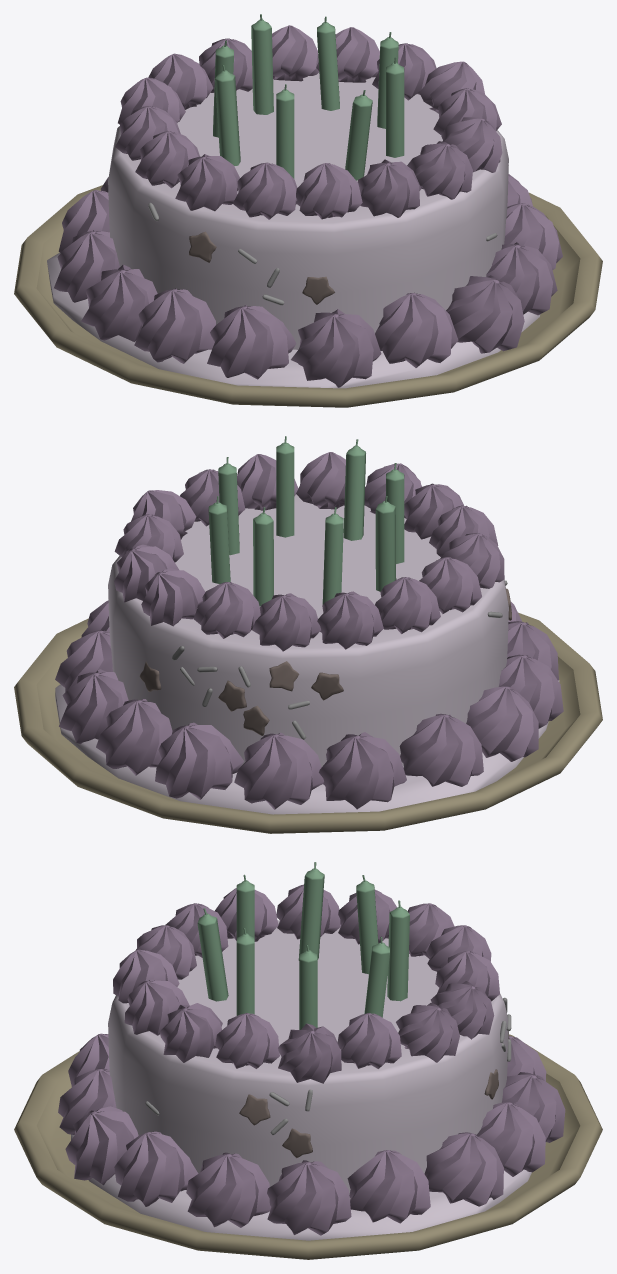
Rendered from BirthdayCake.fbx.
The picture shows the model from 3 angles, top to bottom: view 1: azimuth 30°, elevation 25°; view 2: azimuth 150°, elevation 25°; view 3: azimuth 270°, elevation 25°; orthographic projection.
Parts seen in each view (by area): view 1: BirthdayCake_Base, BirthdayCake_Plate, BirthdayCakeI_Icing, IcingSwirl29, IcingSwirl30, IcingSwirl28, IcingSwirl27, IcingSwirl34, IcingSwirl33, IcingSwirl26, IcingSwirl32, IcingSwirl1 (+28 smaller); view 2: BirthdayCake_Base, BirthdayCake_Plate, BirthdayCakeI_Icing, IcingSwirl20, IcingSwirl19, IcingSwirl31, IcingSwirl32, IcingSwirl33, IcingSwirl21, IcingSwirl22, BirthdayCake_StarSprinkles, IcingSwirl7 (+28 smaller); view 3: BirthdayCake_Base, BirthdayCake_Plate, BirthdayCakeI_Icing, IcingSwirl24, IcingSwirl25, IcingSwirl23, IcingSwirl22, IcingSwirl26, IcingSwirl27, IcingSwirl21, IcingSwirl12, IcingSwirl13 (+28 smaller).
Part boxes in pixels (box(x1,y1,x2,y2)): BirthdayCake_Base: box(108, 72, 508, 349); BirthdayCake_Plate: box(14, 185, 602, 407); BirthdayCakeI_Icing: box(47, 252, 540, 388); IcingSwirl29: box(291, 309, 381, 387); IcingSwirl30: box(207, 305, 296, 379); IcingSwirl28: box(375, 292, 458, 367); IcingSwirl27: box(446, 275, 524, 353); IcingSwirl34: box(134, 288, 215, 363); IcingSwirl33: box(81, 264, 157, 341); IcingSwirl26: box(486, 242, 557, 315); IcingSwirl32: box(54, 230, 119, 302); IcingSwirl1: box(296, 163, 362, 219); BirthdayCake_Base: box(108, 494, 508, 766); BirthdayCake_Plate: box(14, 612, 602, 833); BirthdayCakeI_Icing: box(55, 680, 559, 814); IcingSwirl20: box(234, 732, 323, 809); IcingSwirl19: box(155, 722, 243, 799); IcingSwirl31: box(319, 732, 406, 809); IcingSwirl32: box(399, 713, 483, 786); IcingSwirl33: box(466, 686, 538, 761); IcingSwirl21: box(96, 699, 172, 775); IcingSwirl22: box(59, 669, 128, 744); BirthdayCake_StarSprinkles: box(139, 588, 511, 735); IcingSwirl7: box(252, 593, 320, 651); BirthdayCake_Base: box(108, 920, 508, 1199); BirthdayCake_Plate: box(14, 1034, 602, 1259); BirthdayCakeI_Icing: box(71, 1134, 545, 1240); IcingSwirl24: box(267, 1160, 351, 1235); IcingSwirl25: box(186, 1152, 271, 1227); IcingSwirl23: box(347, 1150, 430, 1223); IcingSwirl22: box(424, 1132, 503, 1206); IcingSwirl26: box(114, 1131, 198, 1206); IcingSwirl27: box(65, 1106, 138, 1185); IcingSwirl21: box(477, 1102, 545, 1176); IcingSwirl12: box(278, 1023, 341, 1083); IcingSwirl13: box(215, 1013, 279, 1068).
Size of the model in its own units: 0.9174 by 0.4941 by 0.9174.
